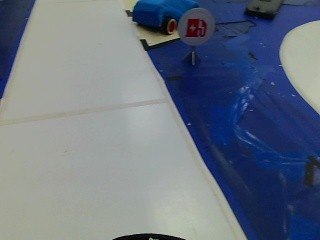battery: (183, 14, 210, 42)
